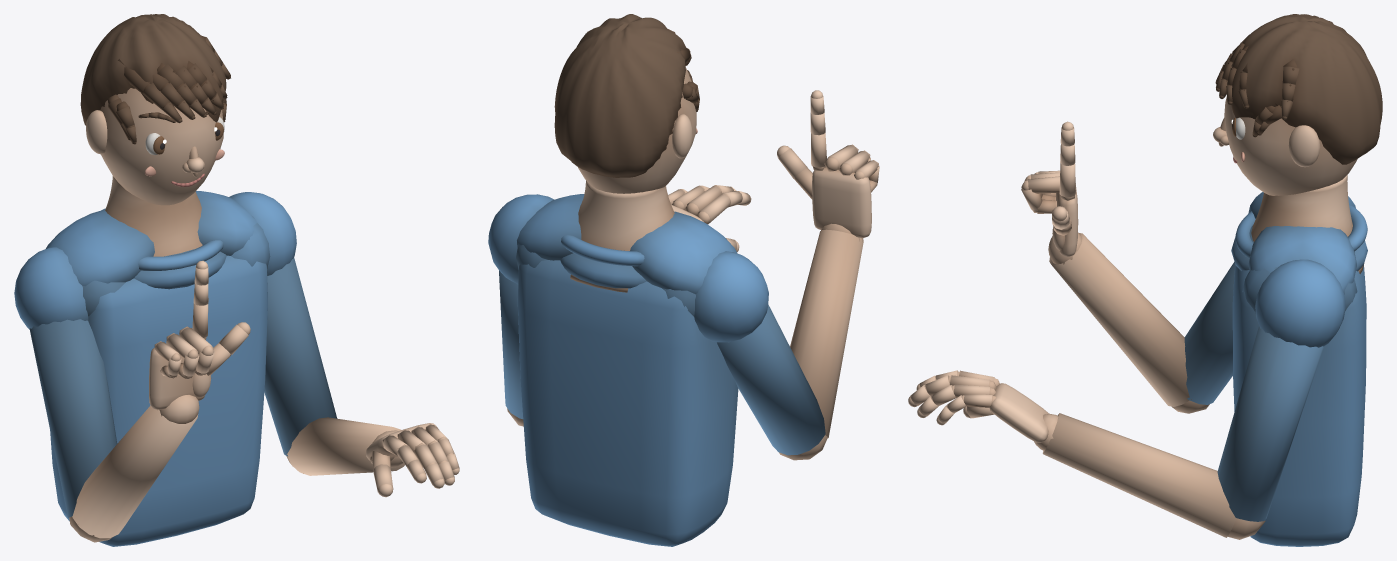
3 views of the same model, side by side, from view 1: azimuth 30°, elevation 25°; view 2: azimuth 150°, elevation 25°; view 3: azimuth 270°, elevation 25° (orthographic).
Parts seen in each view (by area): view 1: LSC_Body; view 2: LSC_Body; view 3: LSC_Body.
Part boxes in pixels (bbox=[...]): LSC_Body: bbox=[14, 14, 459, 546]; LSC_Body: bbox=[488, 14, 879, 546]; LSC_Body: bbox=[908, 14, 1382, 546].
Size of the model in its own units: 0.4304 by 0.713 by 0.6104.
